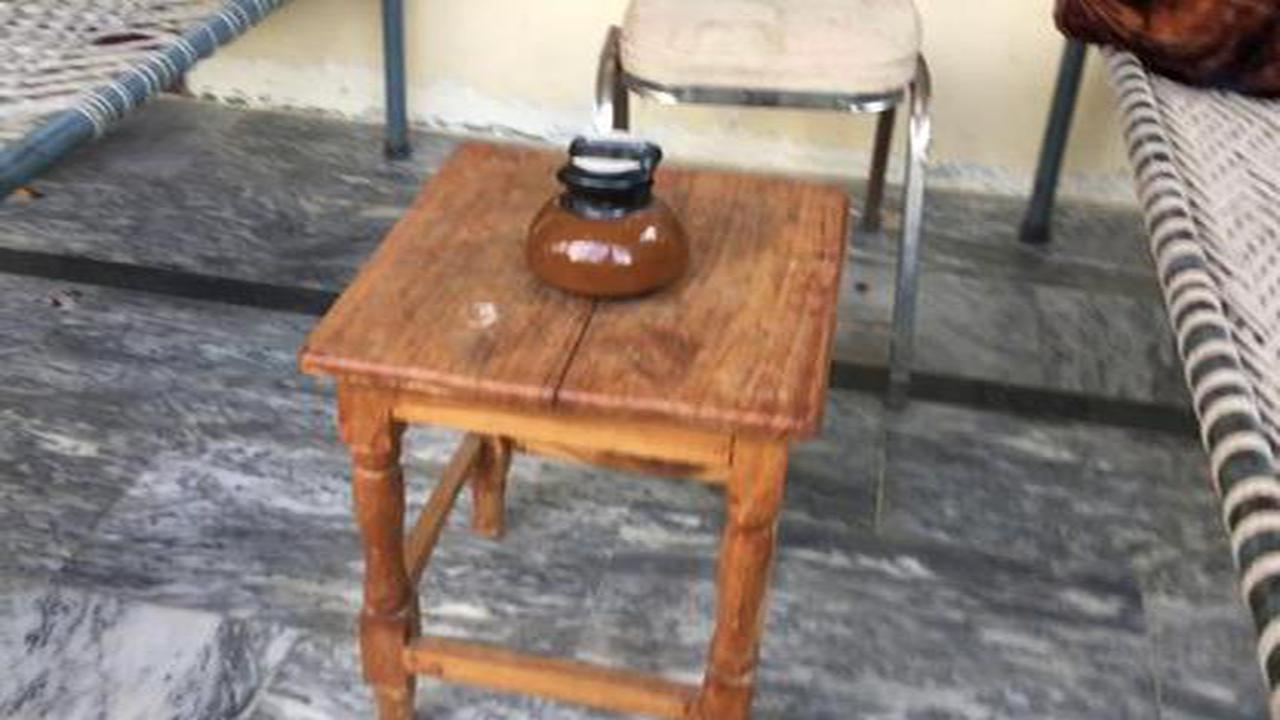insulator_pin: (508, 122, 711, 314)
